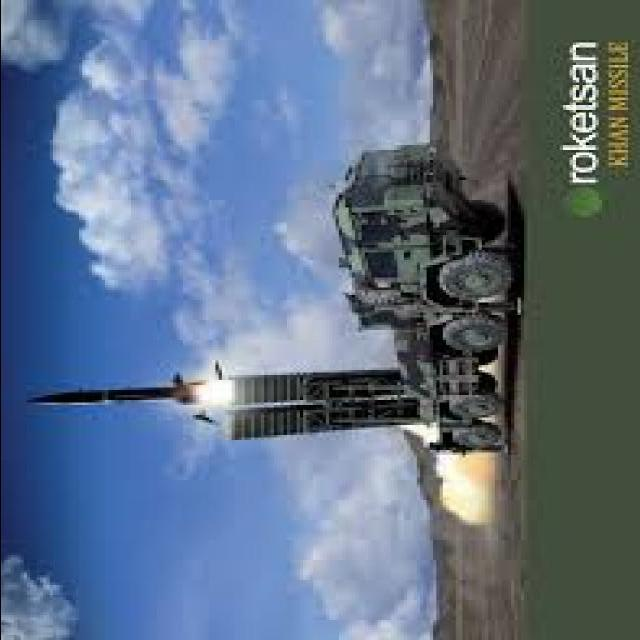Missile: (22, 374, 209, 416)
